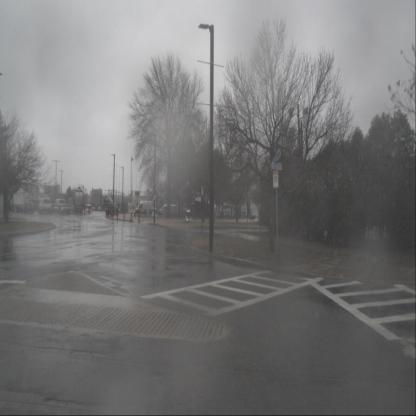vehicle-car: (135, 200, 153, 214), (158, 204, 177, 217), (220, 203, 234, 219), (24, 202, 34, 214), (106, 203, 114, 217)
vehicle-truck: (186, 198, 214, 222), (51, 199, 70, 214), (13, 192, 26, 213), (38, 198, 51, 214)
